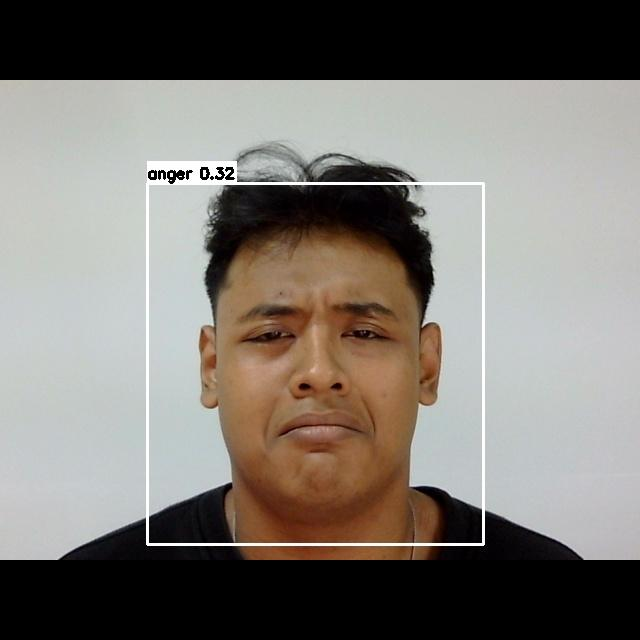Sad: (216, 262, 423, 480)
